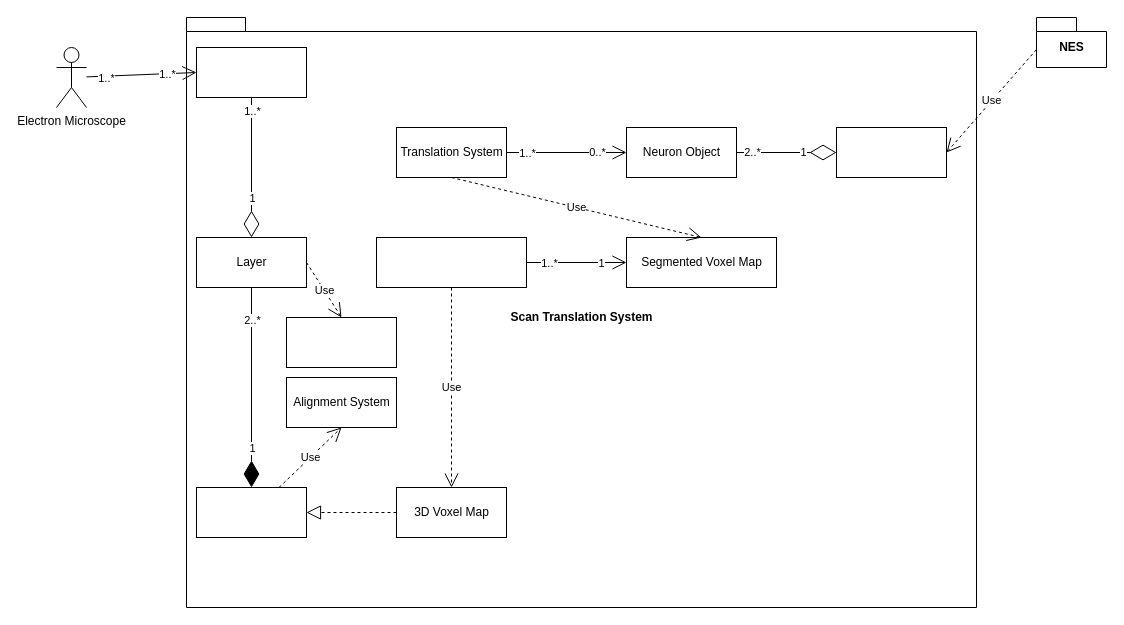
The diagram is 1124 pixels wide and 625 high, and some of its shapes have lost their labels. The shapes that lost their labels are listed below. From the top down, each one's centre as x and y in pixels, then its label:
At point 251,72: "Image".
At point 891,152: "Connectome".
At point 451,262: "Computer Vision System".
At point 341,342: "Stitching System".
At point 251,512: "Layer Stack".
